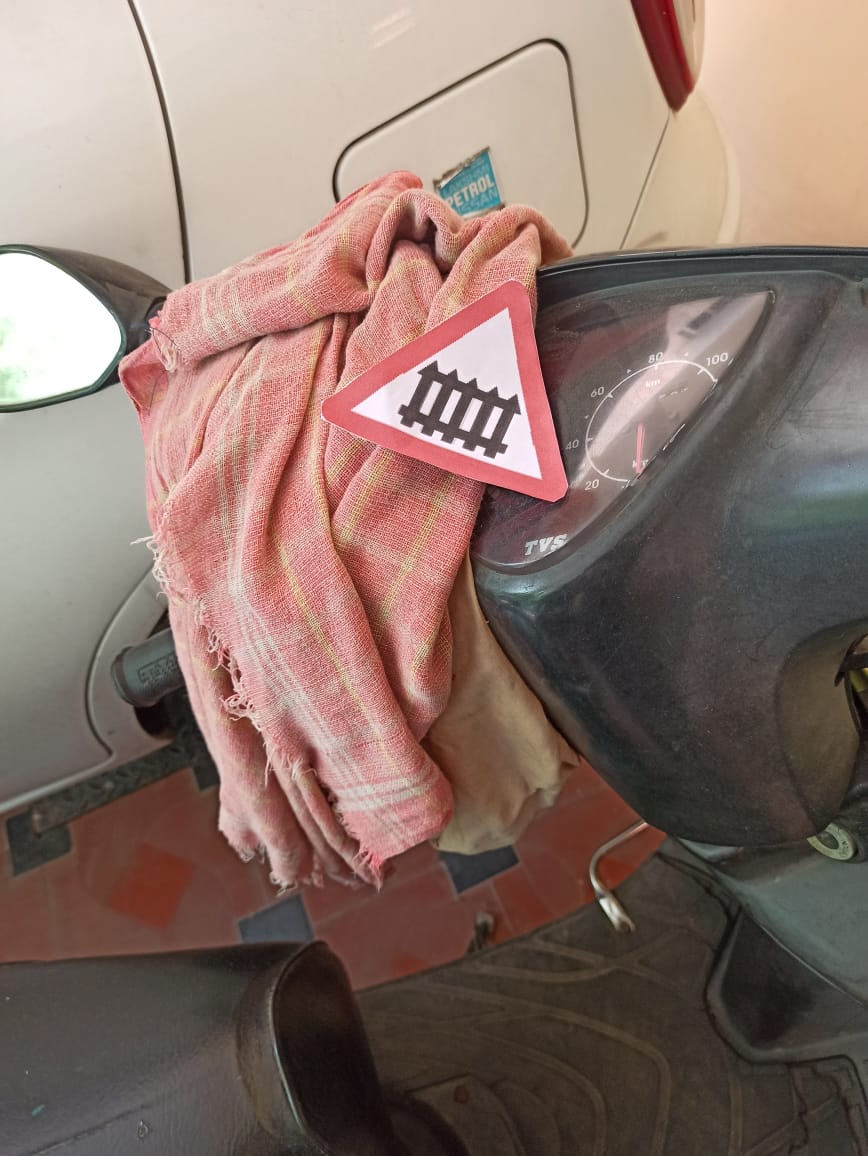GUARDED LEVEL CROSSING: (344, 287, 588, 512)
